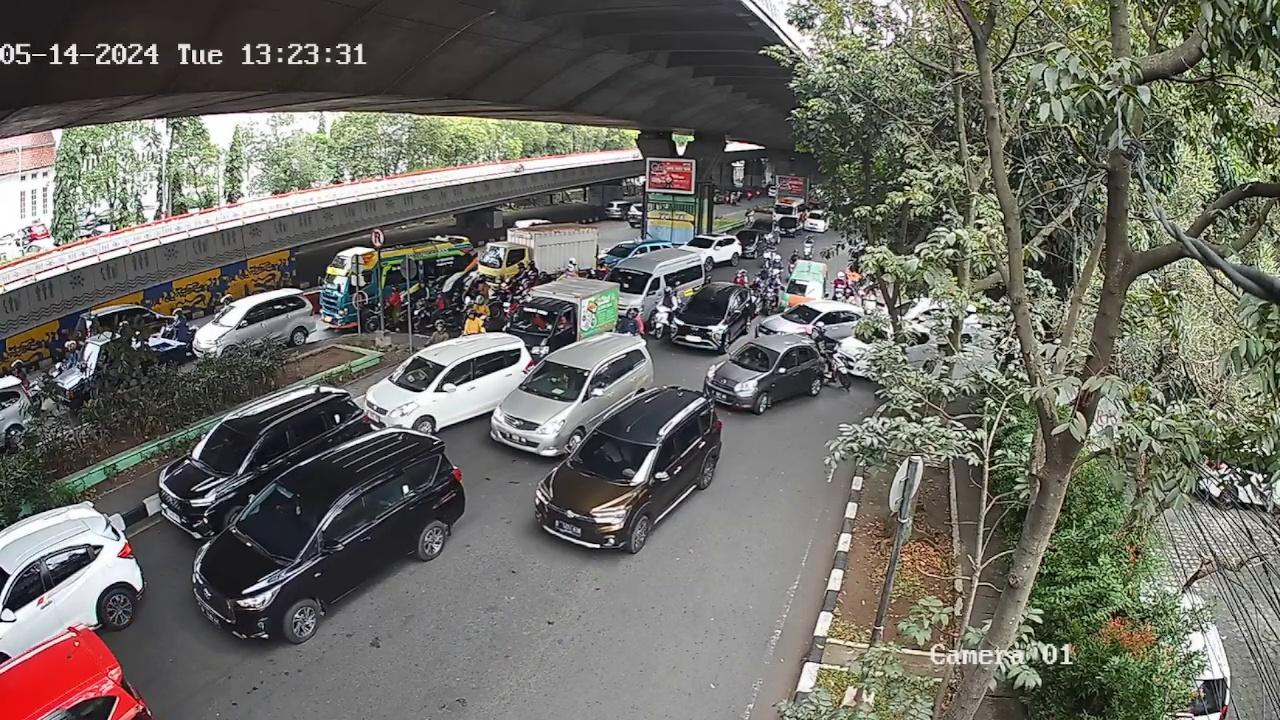pakai: (597, 438, 632, 474)
windshield: (239, 487, 326, 556), (575, 430, 656, 490), (190, 422, 257, 474), (529, 356, 593, 399), (386, 353, 445, 389), (732, 342, 784, 373)
